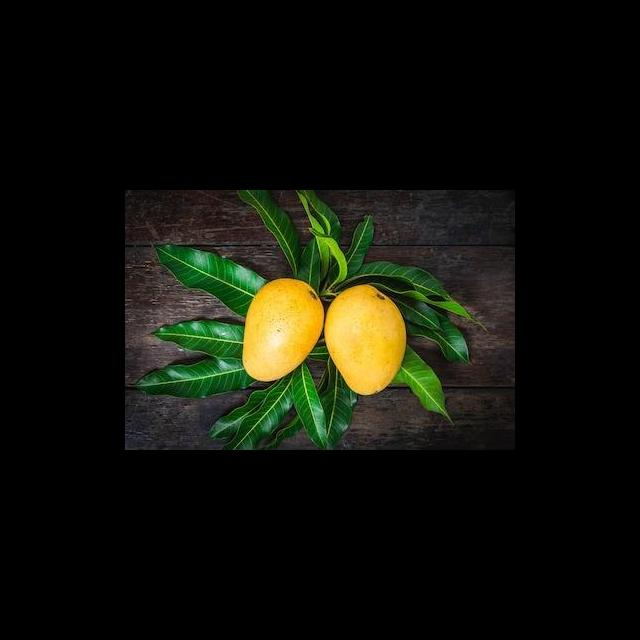mango: (324, 285, 413, 397), (242, 278, 325, 383)
